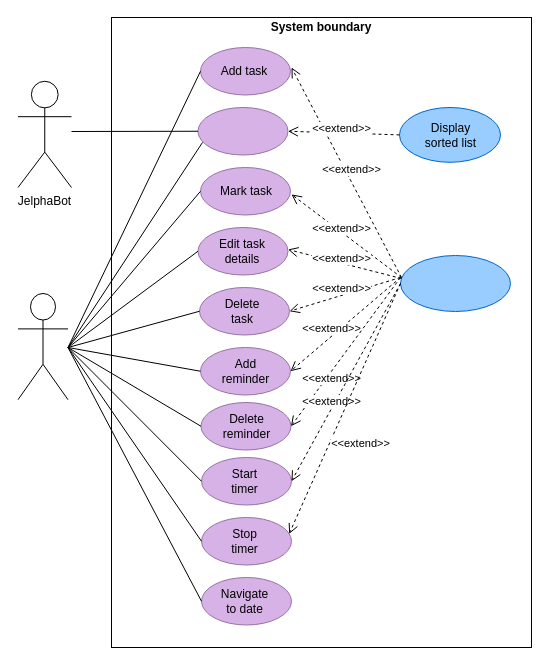
Image size: 549x665. Some labels were removed from this diagram. Here are the shapes that lost their labels. From the top down, the centre of each, then its label:
(242,130): List tasks
(455,283): Display "invalid index" error
(42,346): User
